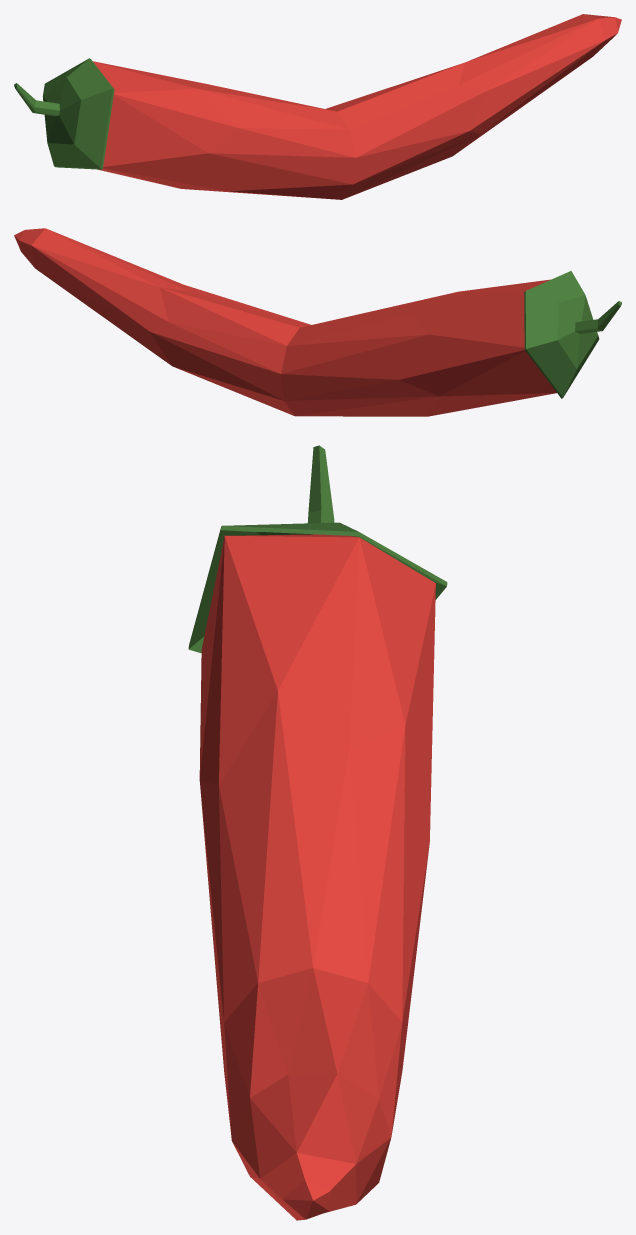
Rendered from Chili_01.fbx.
3 views of the same model, one above another, from view 1: azimuth 30°, elevation 25°; view 2: azimuth 150°, elevation 25°; view 3: azimuth 270°, elevation 25° (orthographic). The views are drawn at different scales.
Visible parts, largest first — view 1: Chili_01; view 2: Chili_01; view 3: Chili_01.
Boxes of the visible parts, x1,y1,x2,y2 form: Chili_01: [14, 14, 621, 199]; Chili_01: [14, 228, 621, 416]; Chili_01: [188, 445, 447, 1220].
Size of the model in its own units: 17.84 by 5.34 by 3.3.
